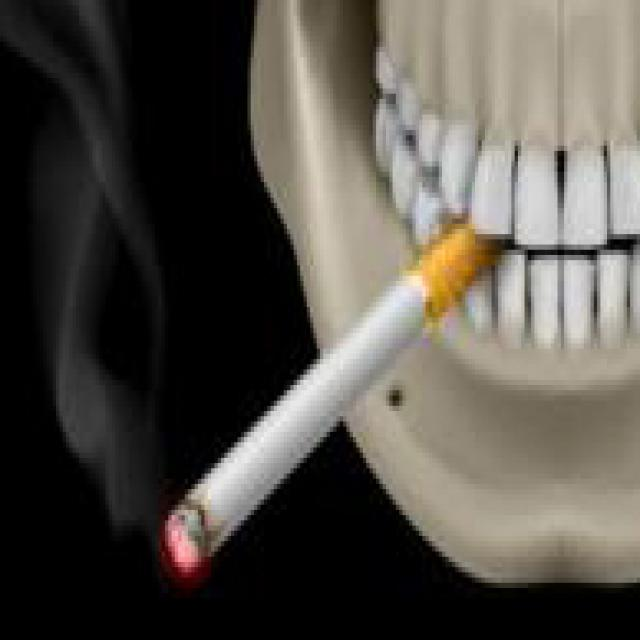smoking: (167, 220, 495, 574)
